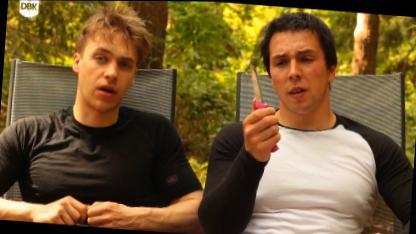knife: (240, 58, 286, 154)
